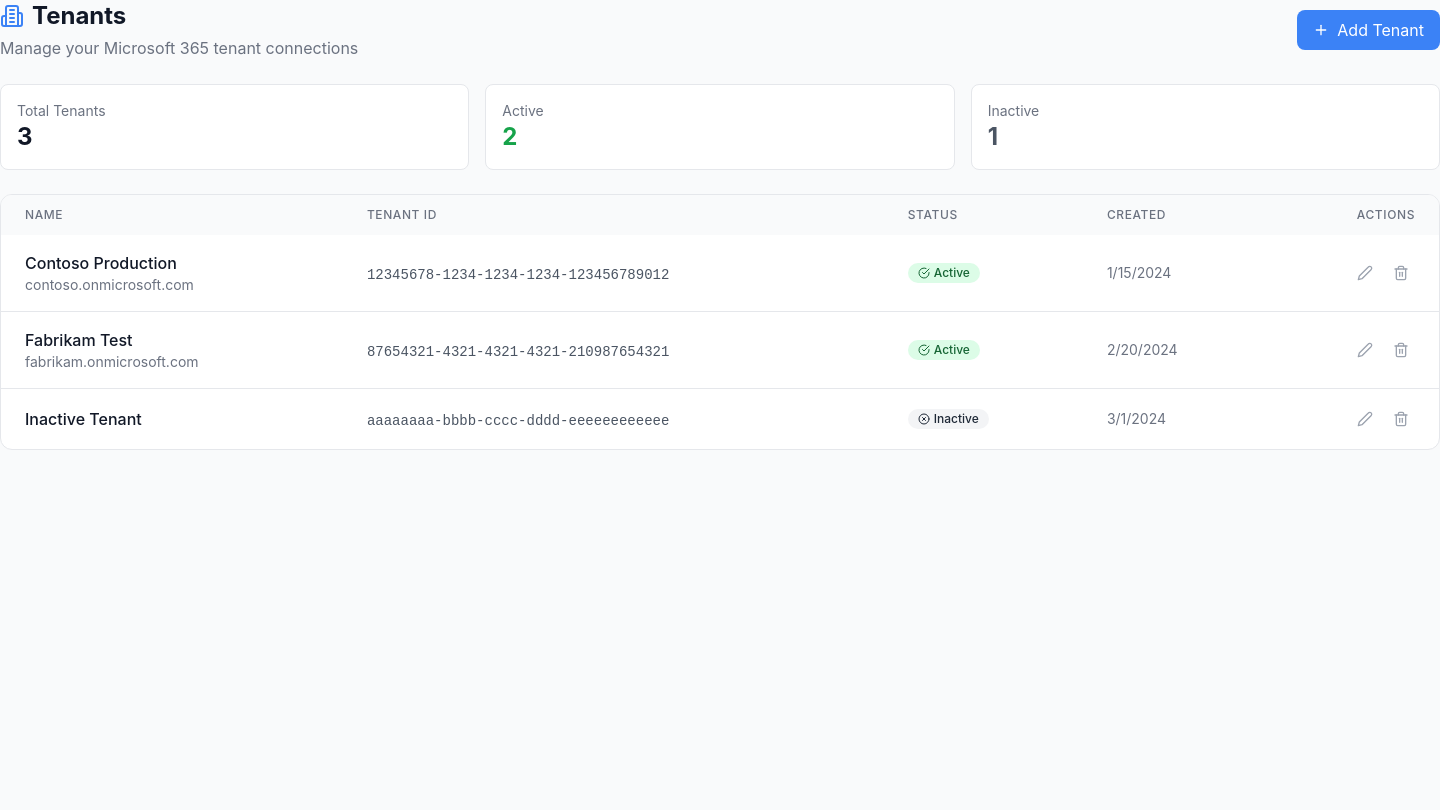
Test: Tenants Page › opens edit tenant modal when edit button is clicked
Click the button named "edit" in the row of "Contoso Production": (1365, 273) [1351,259,1379,287]
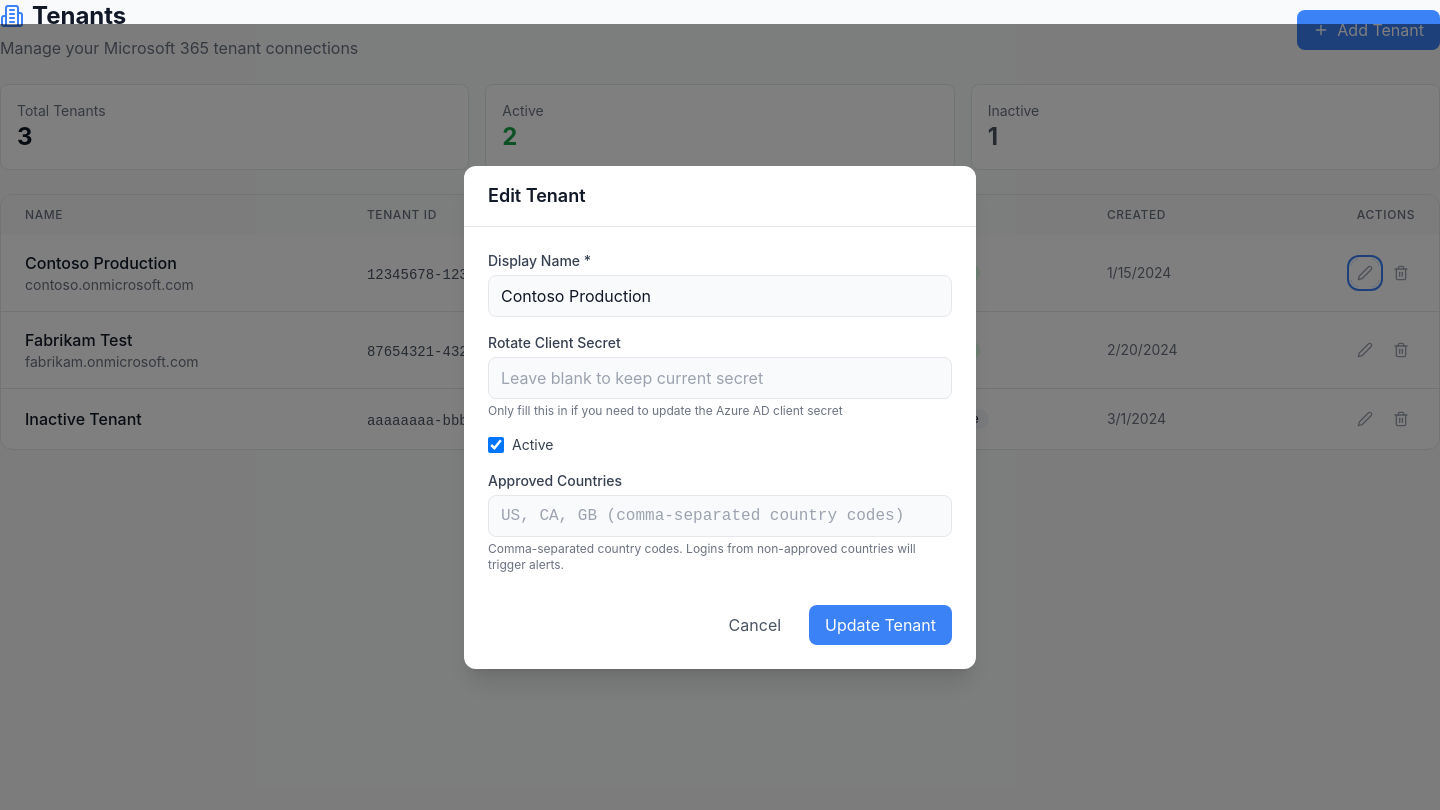
Check: the heading "Edit Tenant" is shown, box [488,184,586,206]
